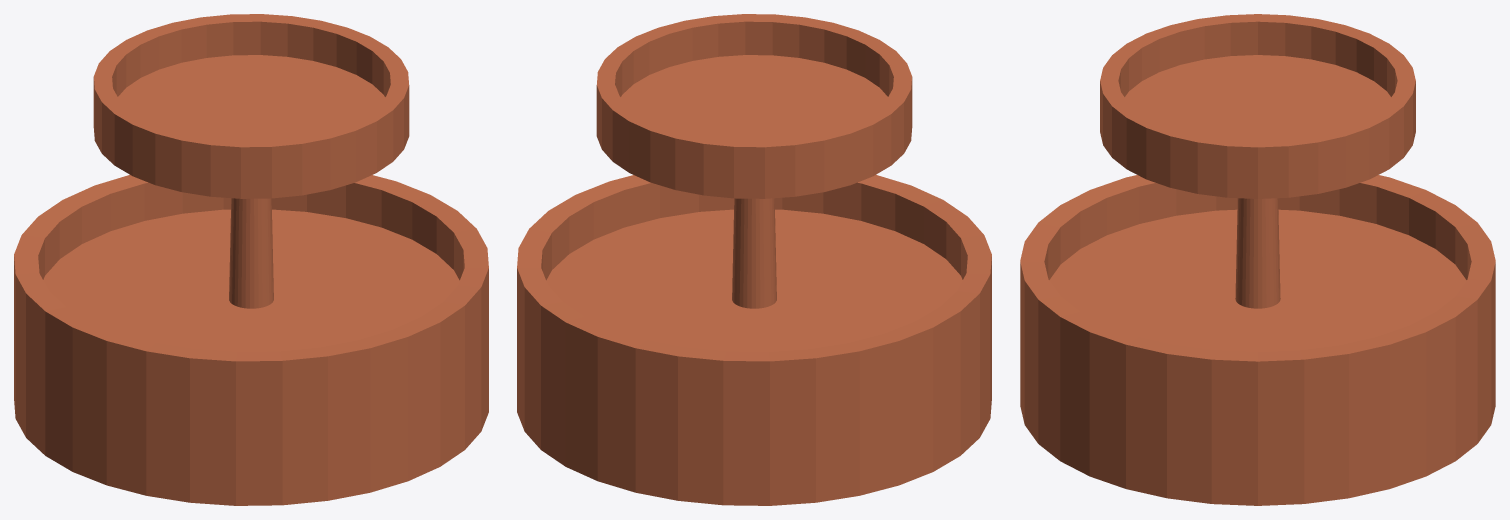
Rendered from expositor_circular.fbx.
The picture shows the model from 3 angles, left to right: view 1: azimuth 30°, elevation 25°; view 2: azimuth 150°, elevation 25°; view 3: azimuth 270°, elevation 25°; orthographic projection.
Parts seen in each view (by area): view 1: eSTANTERIA_CIRCULAR; view 2: eSTANTERIA_CIRCULAR; view 3: eSTANTERIA_CIRCULAR.
Boxes of the visible parts, left/top/right/bottom form: eSTANTERIA_CIRCULAR: left=14, top=14, right=488, bottom=505; eSTANTERIA_CIRCULAR: left=517, top=14, right=991, bottom=505; eSTANTERIA_CIRCULAR: left=1020, top=14, right=1495, bottom=505.
Size of the model in its own units: 806 by 607 by 806.
